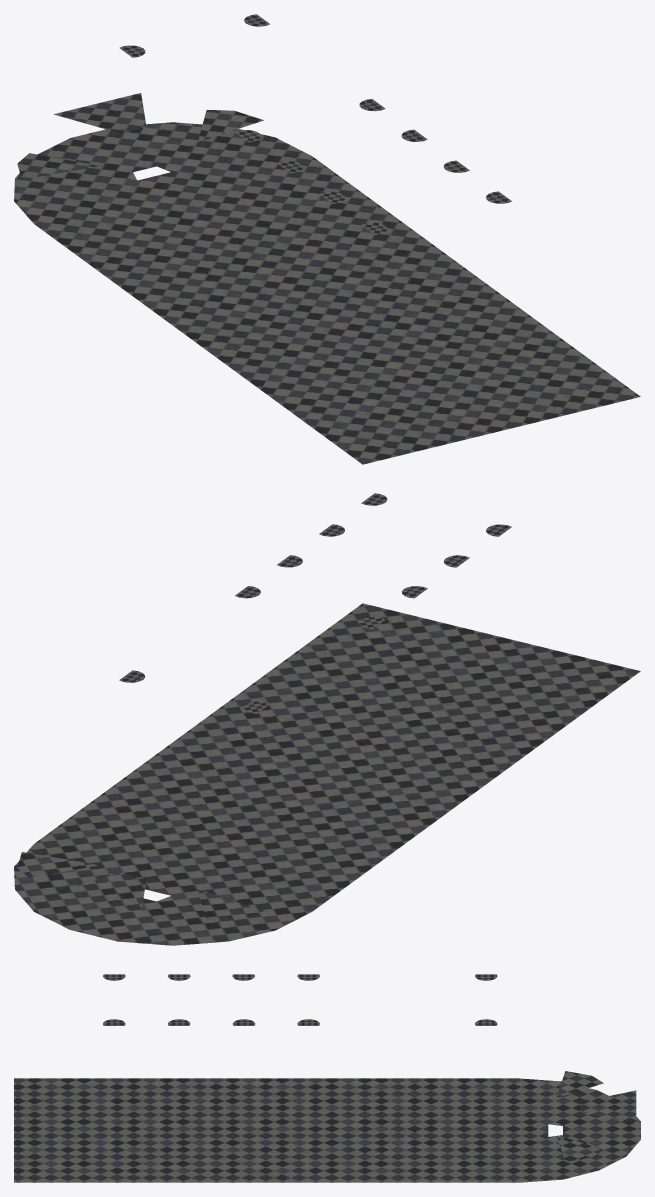
Rendered from Indoor_MdBuild_Church01_Ground_1184_0.fbx.
The picture shows the model from 3 angles, top to bottom: view 1: azimuth 30°, elevation 25°; view 2: azimuth 150°, elevation 25°; view 3: azimuth 270°, elevation 25°; orthographic projection. The views are drawn at different scales.
Parts seen in each view (by area): view 1: Indoor_MdBuild_Church01_Ground_1184_0; view 2: Indoor_MdBuild_Church01_Ground_1184_0; view 3: Indoor_MdBuild_Church01_Ground_1184_0.
Part boxes in pixels (left/top/right/bottom): Indoor_MdBuild_Church01_Ground_1184_0: left=14, top=14, right=640, bottom=464; Indoor_MdBuild_Church01_Ground_1184_0: left=14, top=493, right=640, bottom=945; Indoor_MdBuild_Church01_Ground_1184_0: left=14, top=974, right=640, bottom=1182.
Size of the model in its own units: 30.48 by 17.79 by 77.41.
